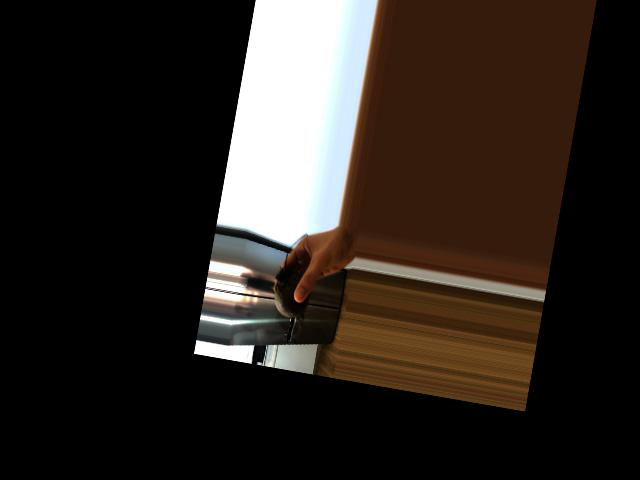beet: (268, 230, 320, 328)
